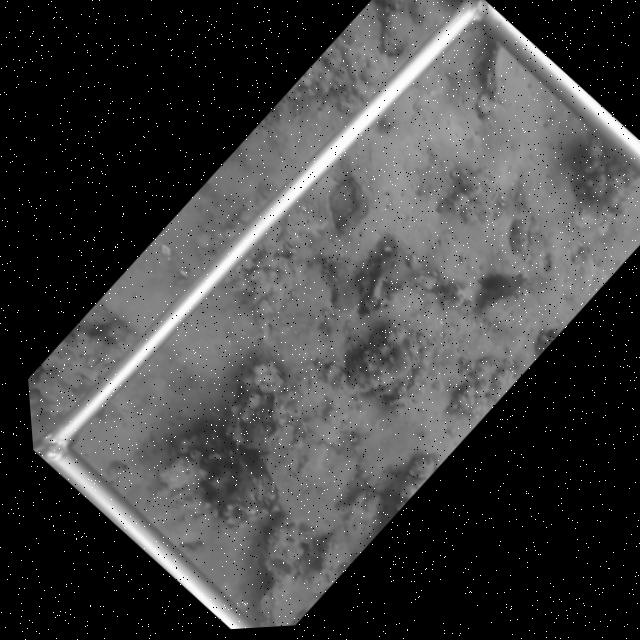Oyster-Closed: (483, 41, 510, 106)
